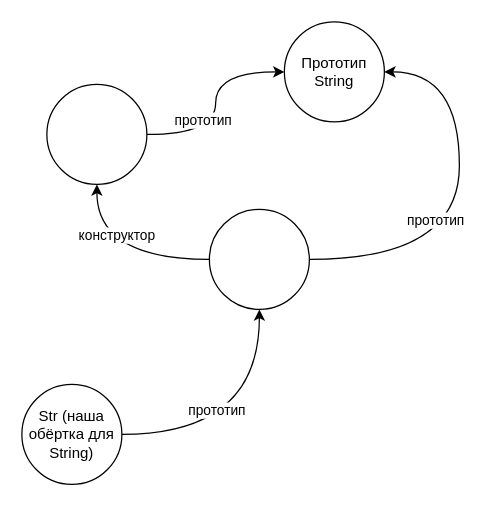
Some shapes in this 485 by 506 pixel diagram are drawn without their labels. The box of each missing label's shape, as (x1, y1, x2, y2) in pixels:
String: (46, 83, 147, 184)
наш объект для прототипа: (208, 208, 309, 309)
